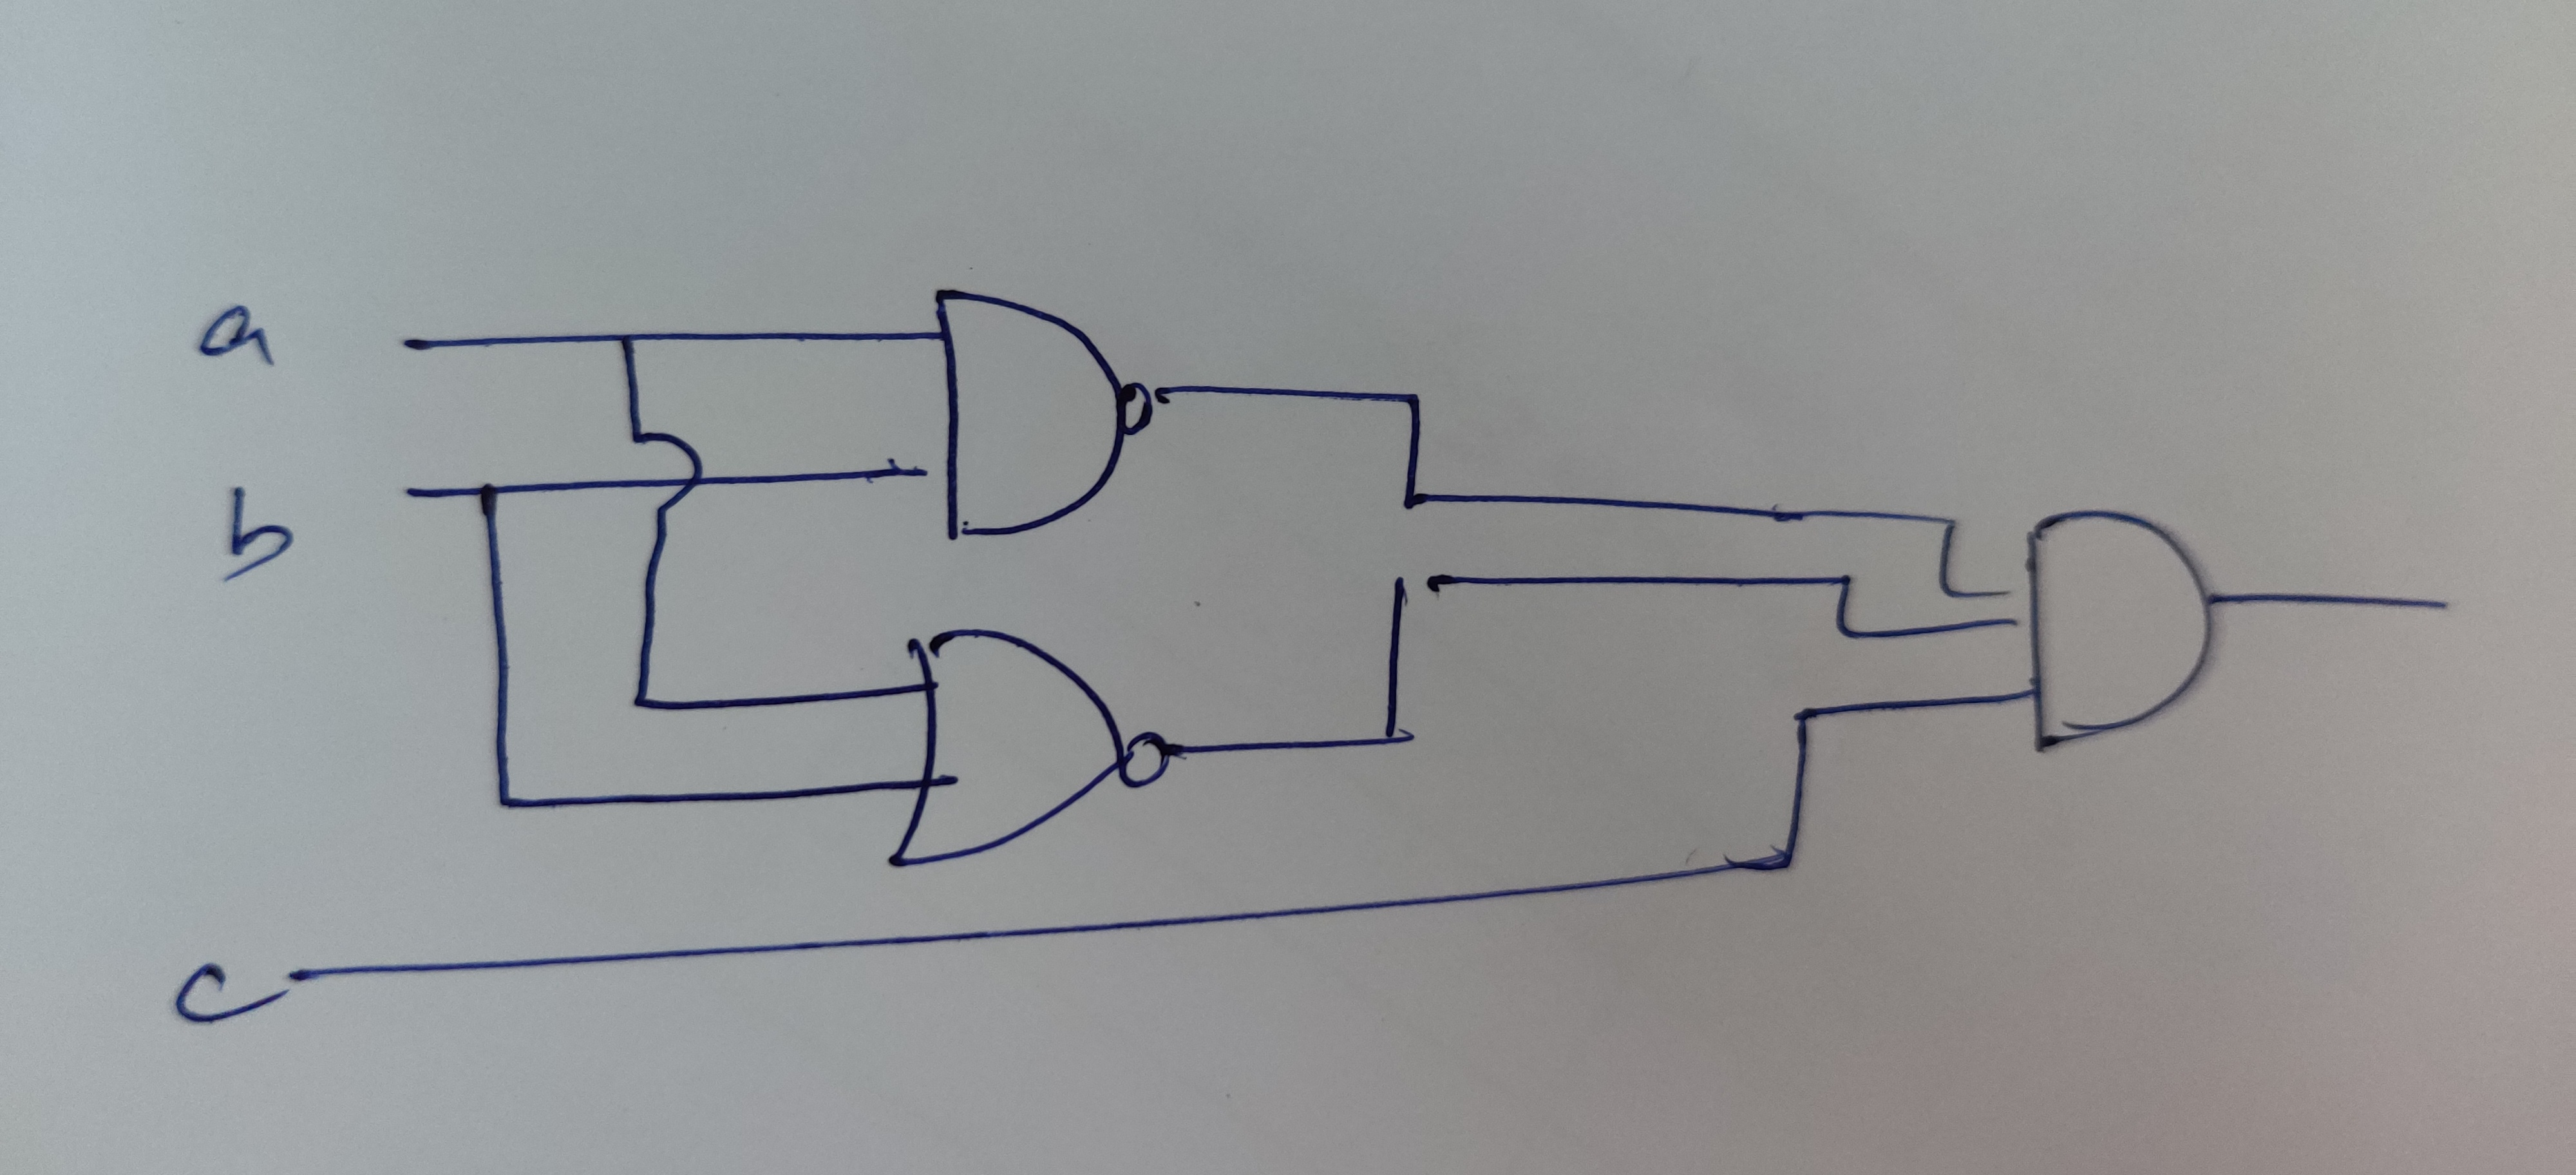and: (1996, 478, 2257, 800)
nand: (918, 253, 1211, 578)
nor: (862, 606, 1237, 891)
